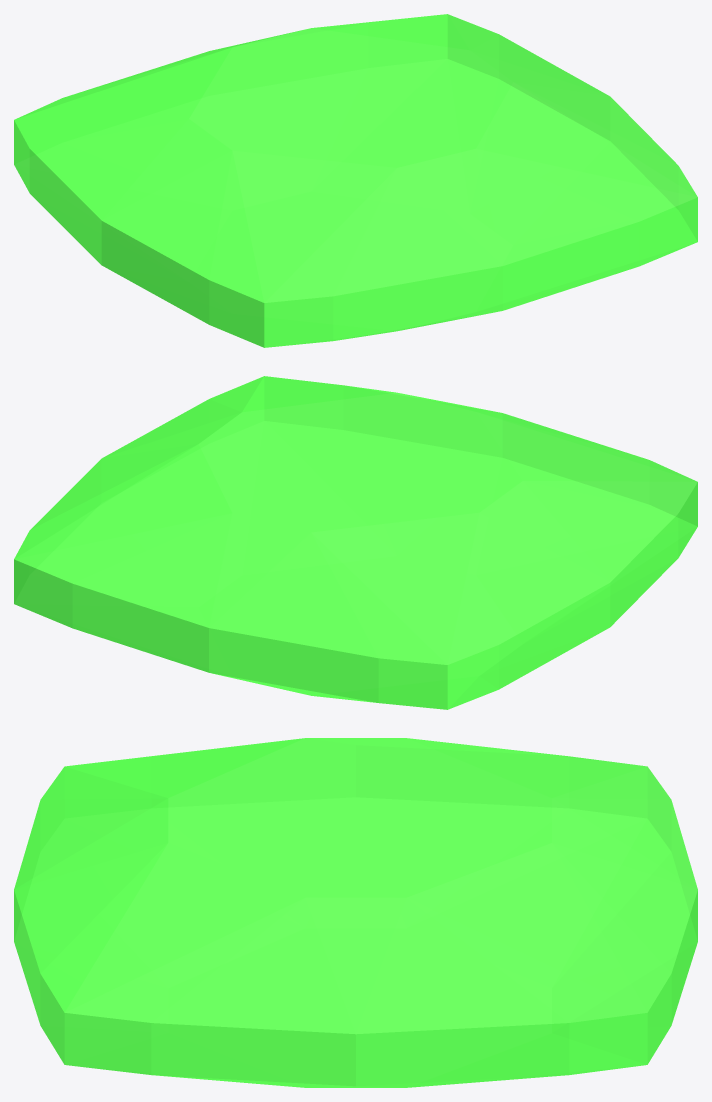
File: emerald.glb
The picture shows the model from 3 angles, top to bottom: view 1: azimuth 30°, elevation 25°; view 2: azimuth 150°, elevation 25°; view 3: azimuth 270°, elevation 25°; orthographic projection. The views are drawn at different scales.
Visible parts, largest first — view 1: emerald_mesh; view 2: emerald_mesh; view 3: emerald_mesh.
Part boxes in pixels (bbox=[...]): emerald_mesh: bbox=[14, 14, 697, 347]; emerald_mesh: bbox=[14, 376, 697, 709]; emerald_mesh: bbox=[14, 738, 697, 1087].
Bounding box in the file's own units: 5.67 × 1.74 × 5.67.
